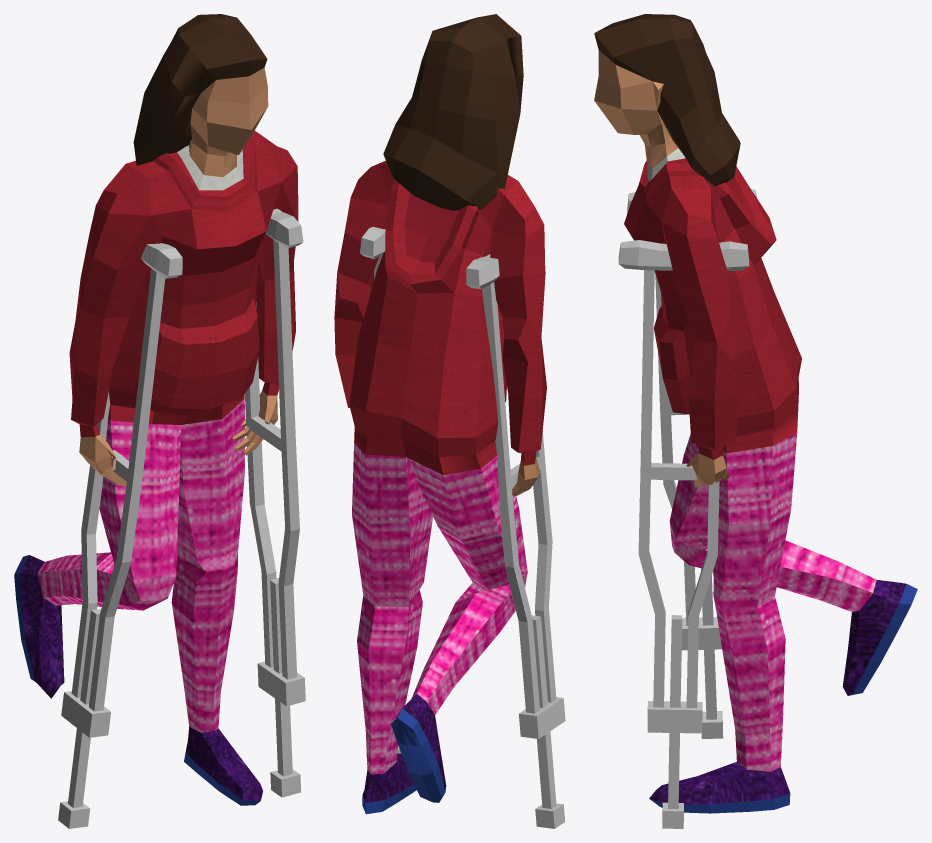
File: Disabled People10.fbx
3 renders of one model, left to right at view 1: azimuth 30°, elevation 25°; view 2: azimuth 150°, elevation 25°; view 3: azimuth 270°, elevation 25°, orthographic. The views are drawn at different scales.
Parts seen in each view (by area): view 1: OfficeWomanB.009; view 2: OfficeWomanB.009; view 3: OfficeWomanB.009.
Boxes of the visible parts, x1,y1,x2,y2 form: OfficeWomanB.009: (14, 14, 305, 828); OfficeWomanB.009: (334, 14, 565, 828); OfficeWomanB.009: (594, 14, 917, 828).
Size of the model in its own units: 45.86 by 150 by 56.99.
